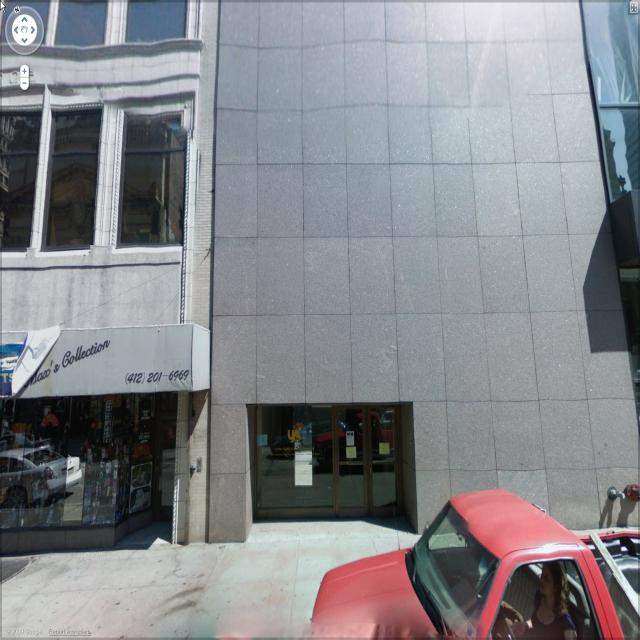b_1: (210, 12, 596, 530), (1, 8, 216, 550), (588, 8, 640, 376)
